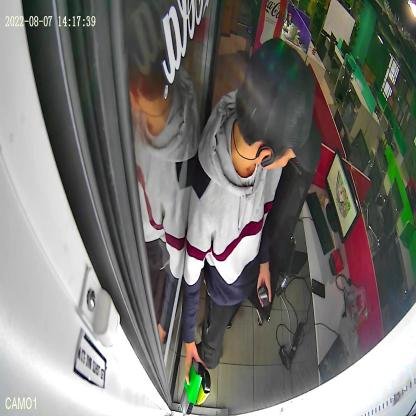green: (179, 356, 203, 416)
yellow: (191, 363, 211, 406)
